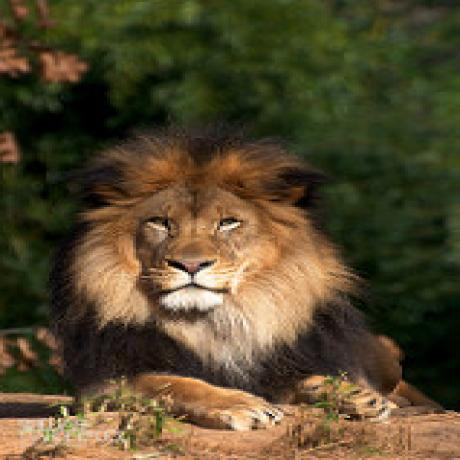Lion: (42, 129, 395, 433)
